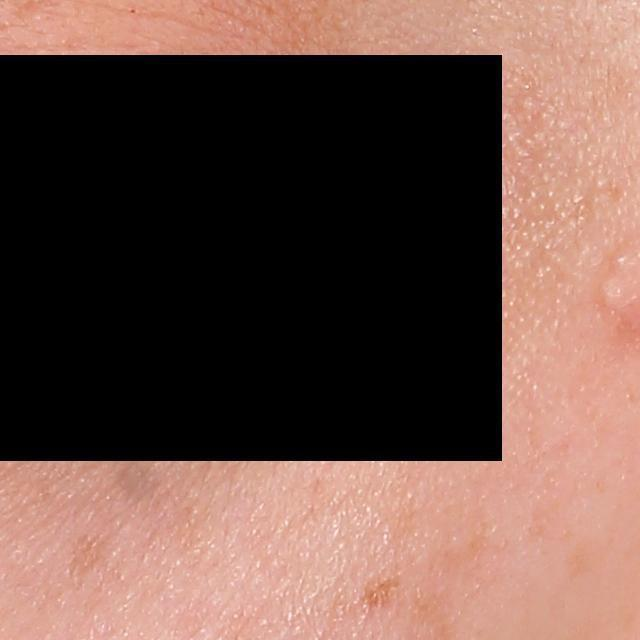comedo: (595, 278, 632, 312), (607, 248, 637, 276)
melasma: (357, 564, 414, 616), (63, 534, 108, 584)
